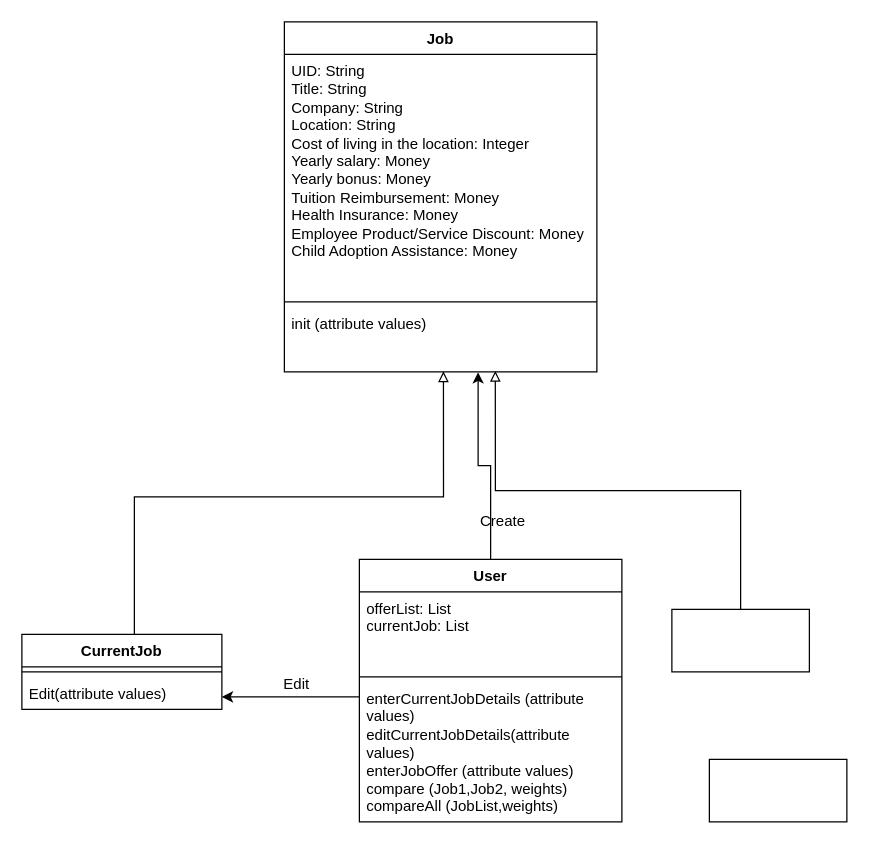
Image size: 869x848. Some labels were removed from this diagram. Each missing label, with the centre of its shape:
JobOffer: point (740, 640)
Money: point (777, 790)
